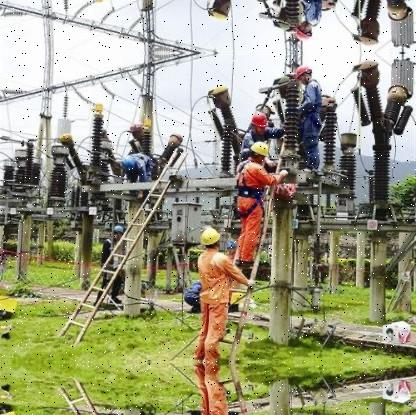helmet: (200, 227, 223, 252), (249, 109, 272, 133), (251, 137, 271, 164), (296, 65, 316, 86), (296, 19, 316, 40), (112, 224, 126, 241), (226, 239, 237, 256)
